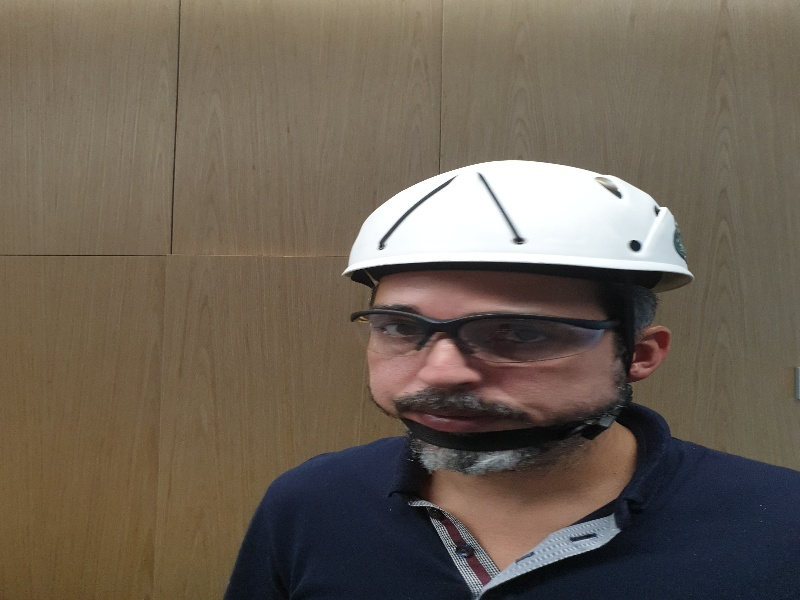Baret: (341, 156, 688, 278)
Gozluk: (349, 310, 627, 368)
